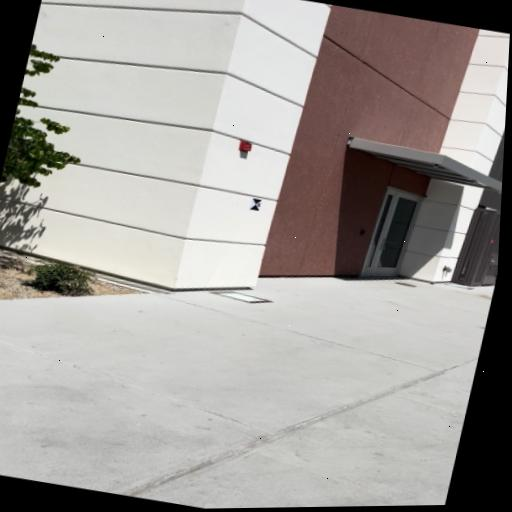target6: (248, 198, 261, 210)
